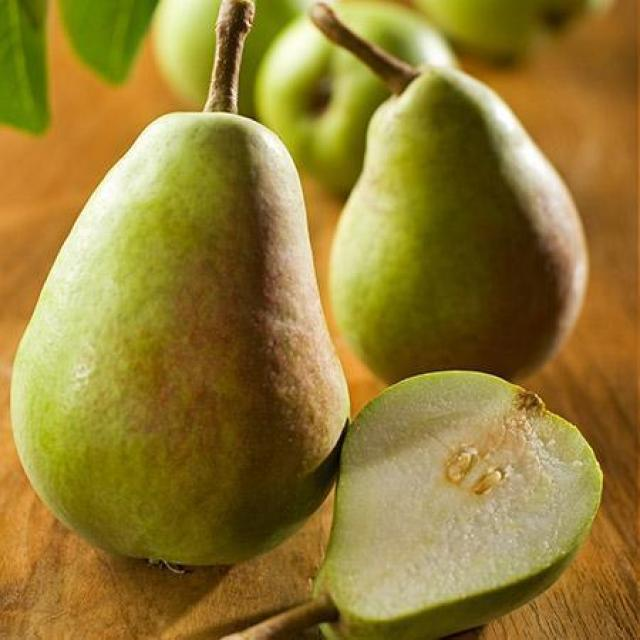paer: (0, 57, 357, 576), (318, 62, 592, 384), (303, 362, 599, 640)
